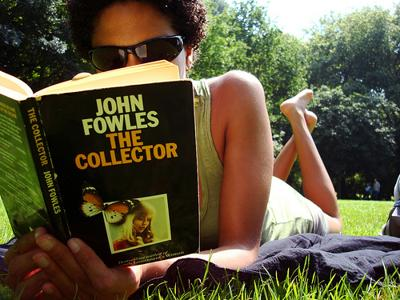person: (1, 1, 344, 300)
